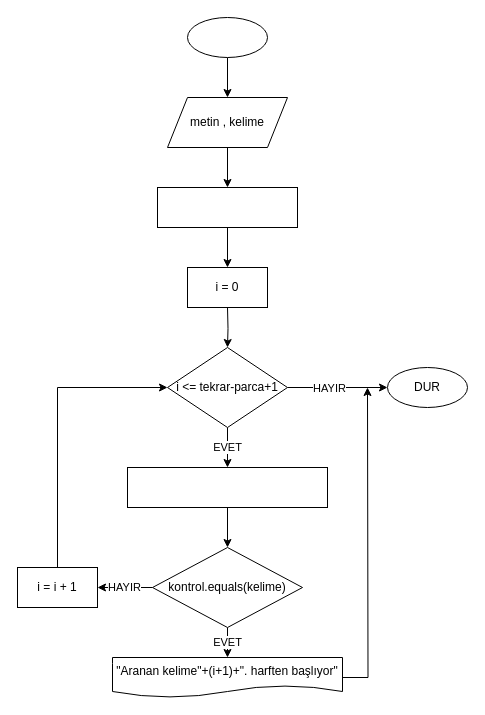
The diagram is 485 pixels wide and 715 high, and some of its shapes have lost their labels. Here are the shapes that lost their labels. From the top down, the centre of each, then its label:
At (x=227, y=37): "BAŞLA".
At (x=227, y=207): "parca = kelime.length() tekrar = metin.length()".
At (x=227, y=487): "kontrol = metin.substring(i, i+parca)".
